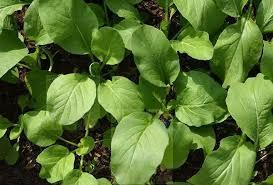Healthy-Pechay: (25, 4, 273, 174)
